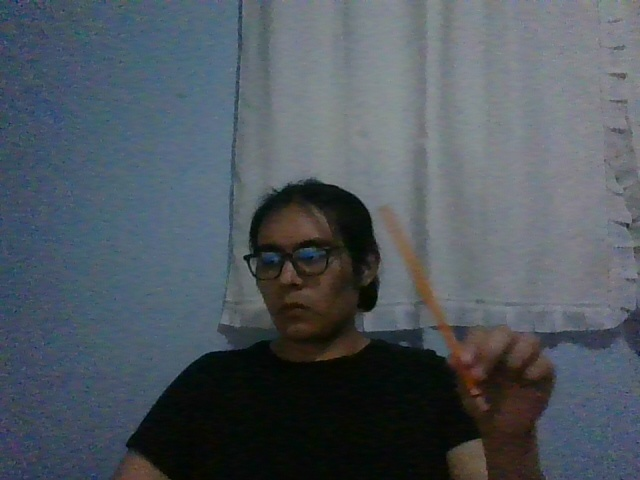lapiz: (379, 203, 490, 413)
